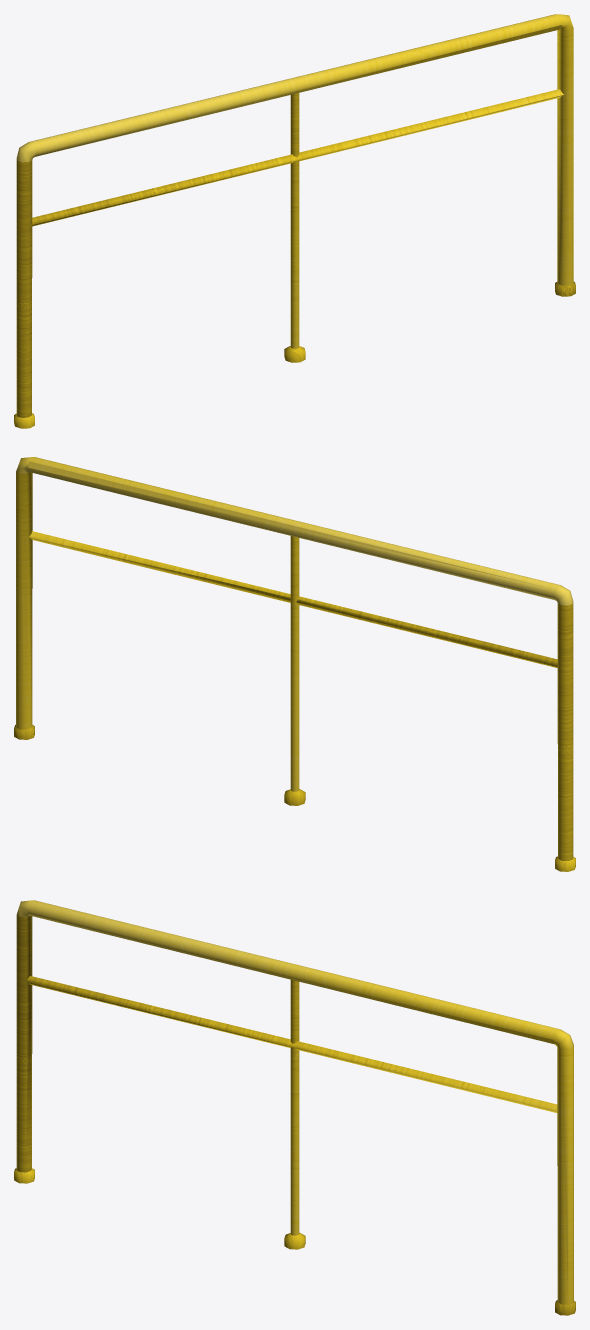
Rendered from Handrail_3x.FBX.
3 renders of one model, top to bottom at view 1: azimuth 30°, elevation 25°; view 2: azimuth 150°, elevation 25°; view 3: azimuth 330°, elevation 25°, orthographic.
Visible parts, largest first — view 1: handrail_3x; view 2: handrail_3x; view 3: handrail_3x.
Boxes of the visible parts, x1,y1,x2,y2 form: handrail_3x: (14,14,575,428); handrail_3x: (14,457,575,871); handrail_3x: (14,900,575,1315).
Bounding box in the file's own units: 187 × 89.7 × 6.31.
Materials: 1 (1 with a texture image).
